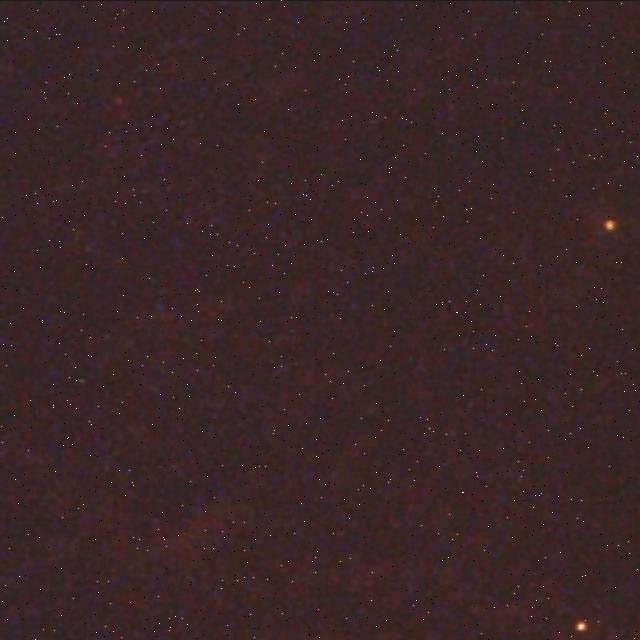Fragment: (604, 214, 618, 233), (574, 618, 590, 632)
